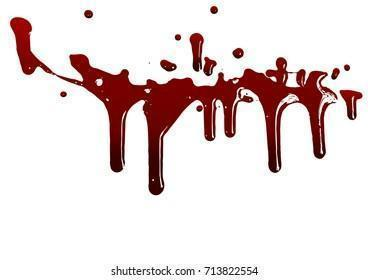Fire: (10, 18, 338, 195), (190, 33, 217, 76), (342, 90, 363, 120), (161, 60, 177, 72), (233, 48, 245, 58), (332, 68, 341, 80), (211, 6, 219, 14), (84, 10, 92, 18), (175, 34, 182, 41), (345, 64, 351, 70), (60, 91, 66, 96)
